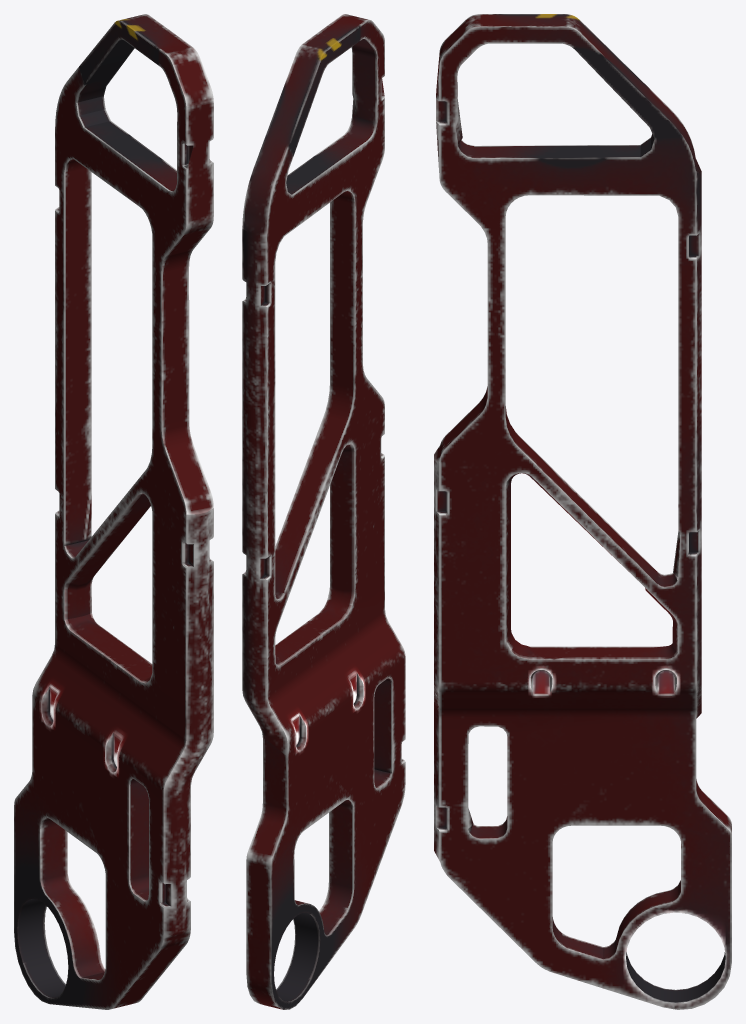
File: SM_add_7_2.fbx
3 views of the same model, side by side, from view 1: azimuth 30°, elevation 25°; view 2: azimuth 150°, elevation 25°; view 3: azimuth 270°, elevation 25° (orthographic). The views are drawn at different scales.
Parts seen in each view (by area): view 1: SM_add_7_2_LOD0; view 2: SM_add_7_2_LOD0; view 3: SM_add_7_2_LOD0.
Part boxes in pixels (bbox=[...]): SM_add_7_2_LOD0: bbox=[14, 14, 213, 1009]; SM_add_7_2_LOD0: bbox=[242, 14, 405, 1009]; SM_add_7_2_LOD0: bbox=[434, 14, 731, 1009].
Bounding box in the file's own units: 3.79 × 19.9 × 73.27.
Materials: 1 (1 with a texture image).
